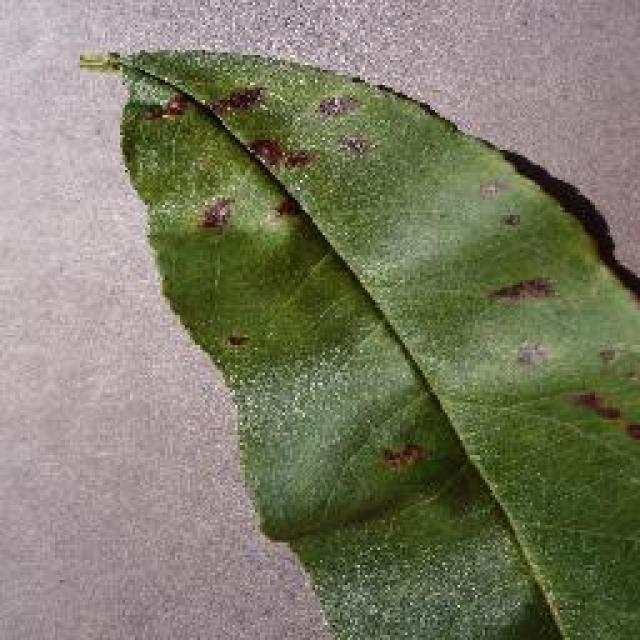Bacterial_spot: (86, 39, 437, 248), (479, 179, 640, 436)
